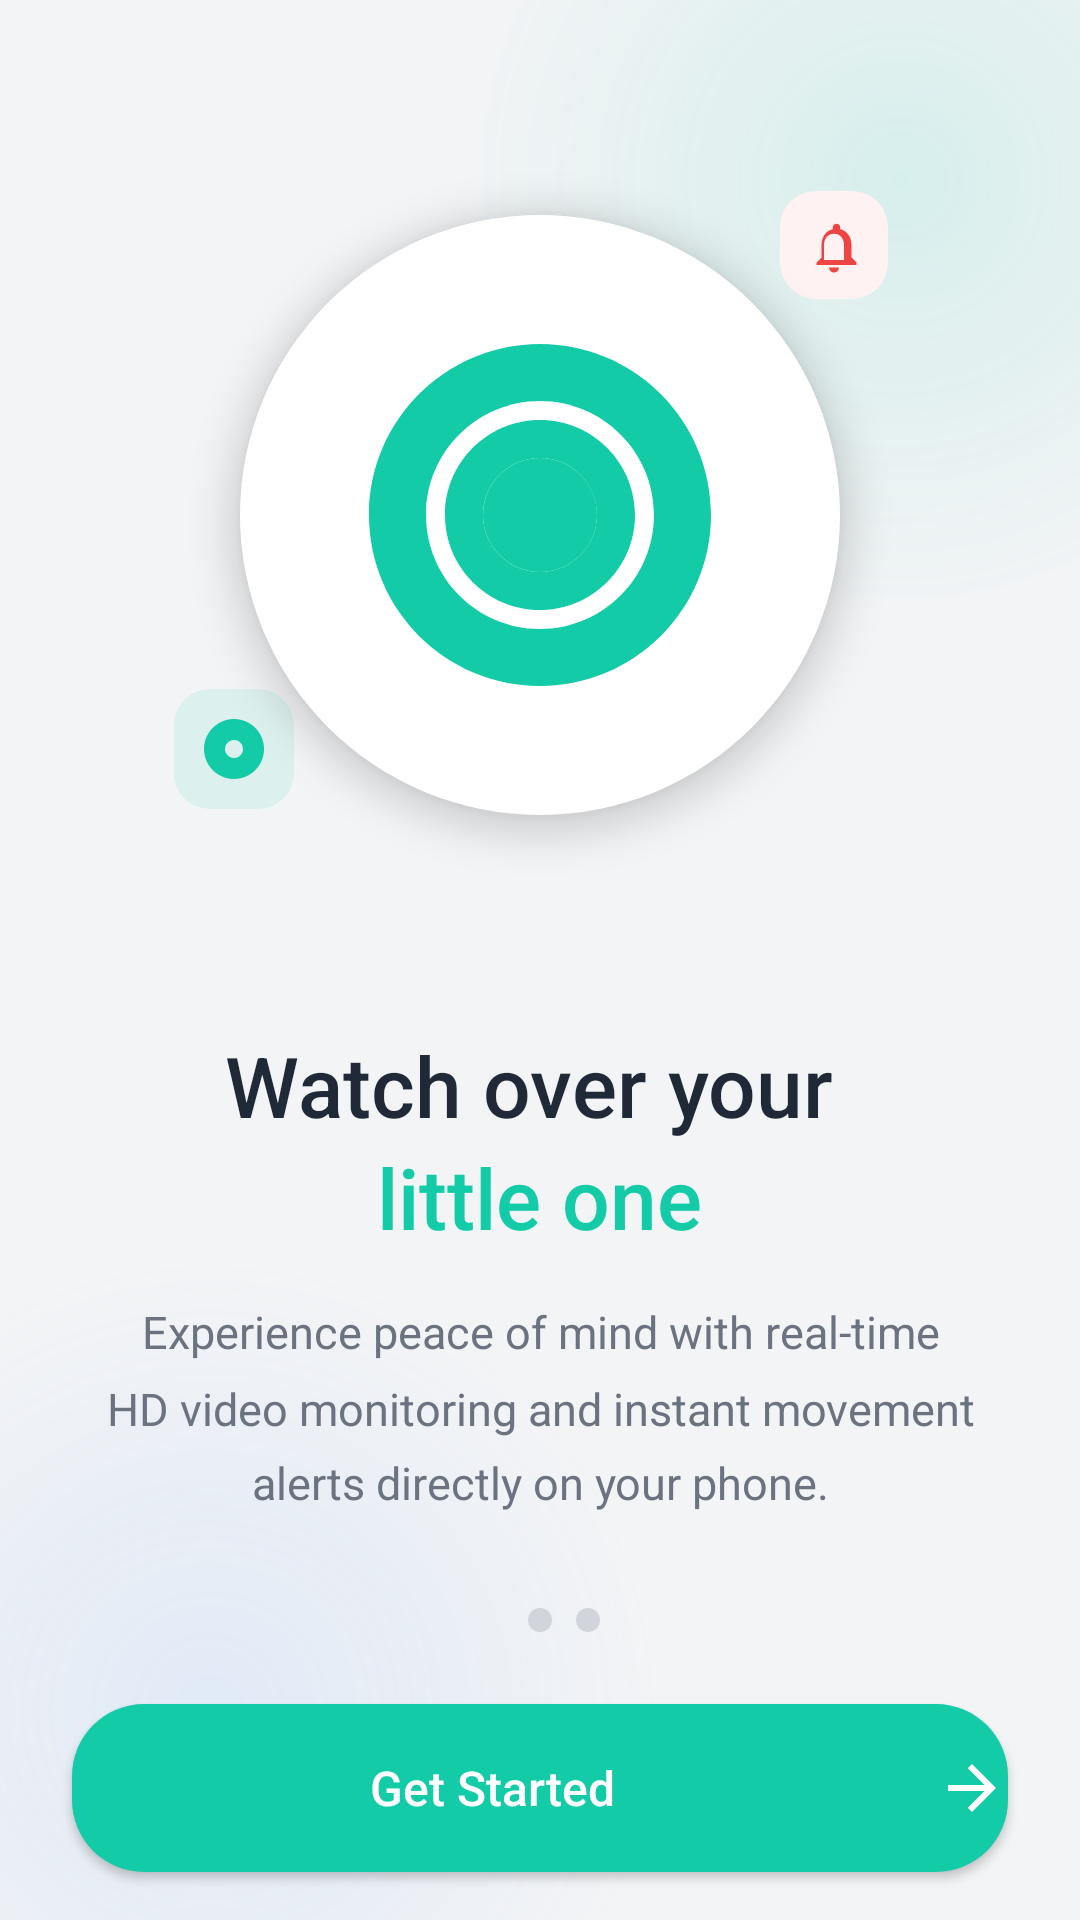

Screen size 1080*1920. Icon name, then its box in pixels as (x1, y1, x2, y2):
notifications: (816, 223, 857, 273)
